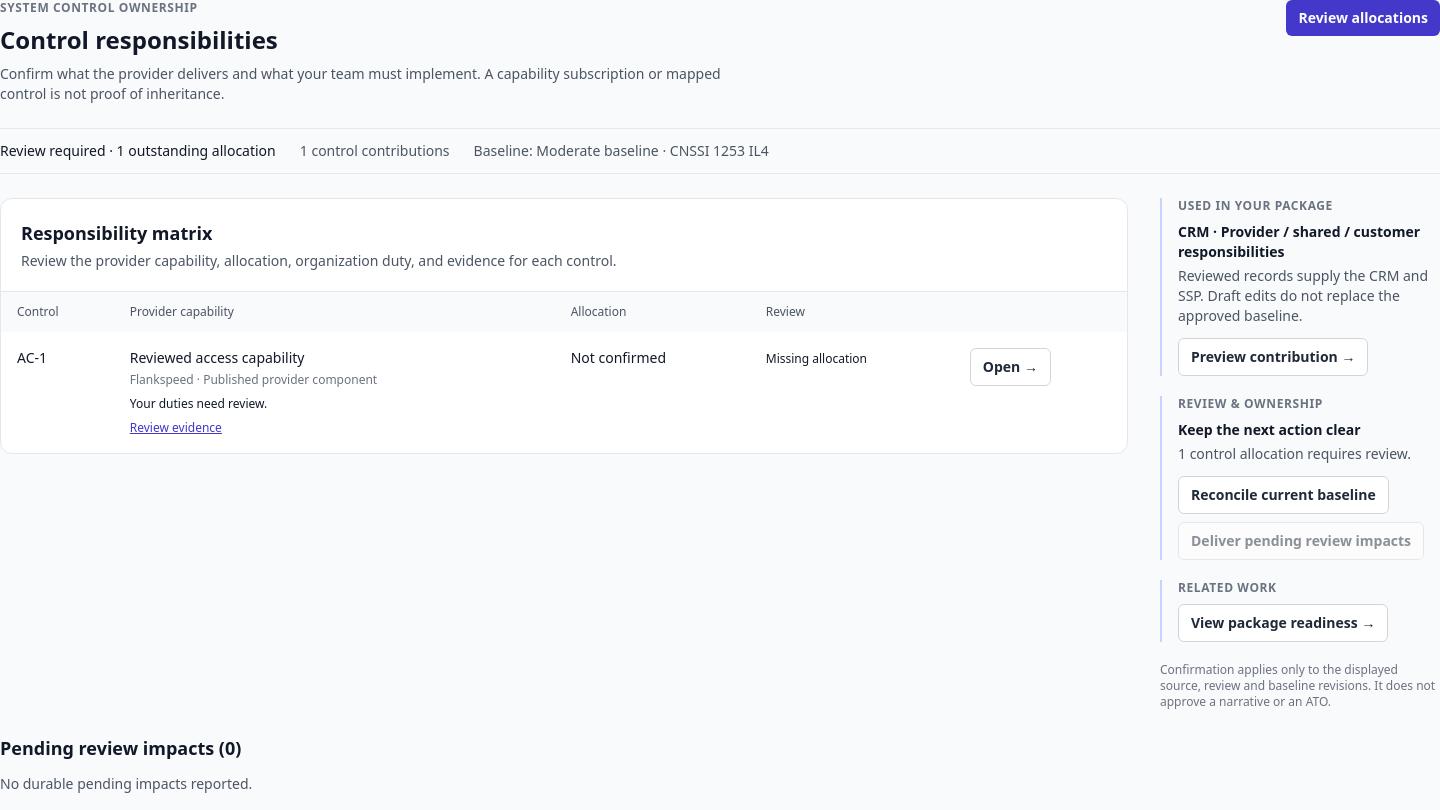
Test: system subscription responsibility review › opens the first reviewable control from the header action
Expected: the element "Responsibility matrix" is shown, [0, 198, 1128, 454]
Click the button "Review allocations". click: (1363, 18)
box: [1286, 0, 1439, 36]
(page scrolled)
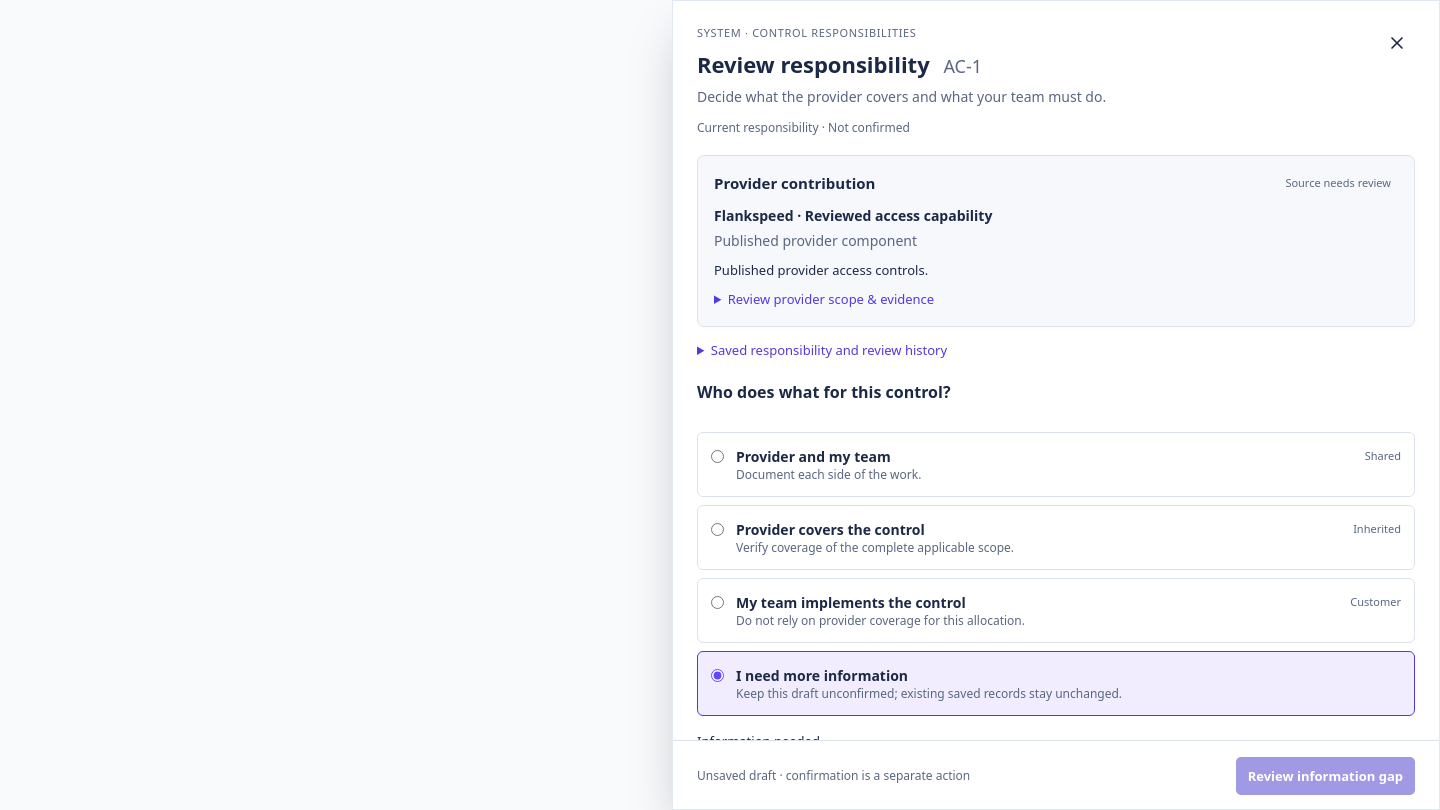
Expected: the dialog "Review responsibility AC-1" is shown, [672, 0, 1439, 809]
